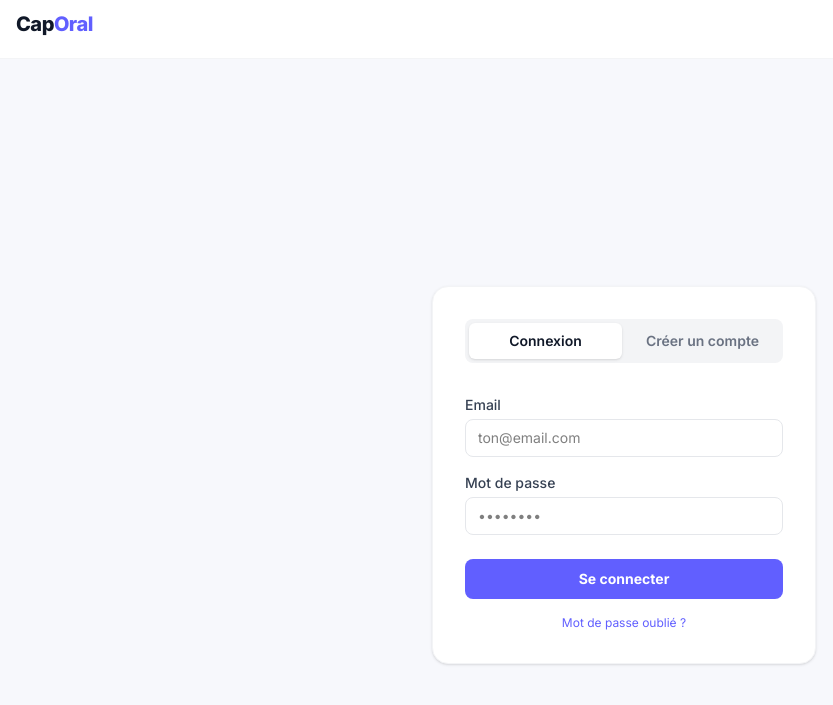
it: ConnexionPage › shows confirm password field on inscription tab
What coordinates should you click on to do the following:
click the button "Créer un compte"
I would click on:
 (702, 340)
Its box is [626, 322, 779, 358].
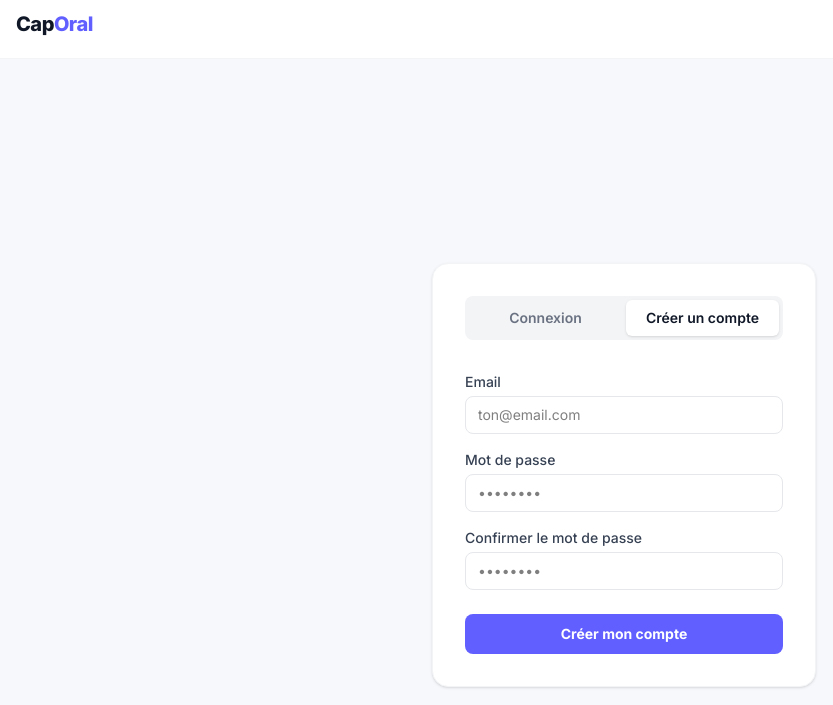
Result: the text "Confirmer le mot de passe" is shown at [465, 528, 642, 546]
